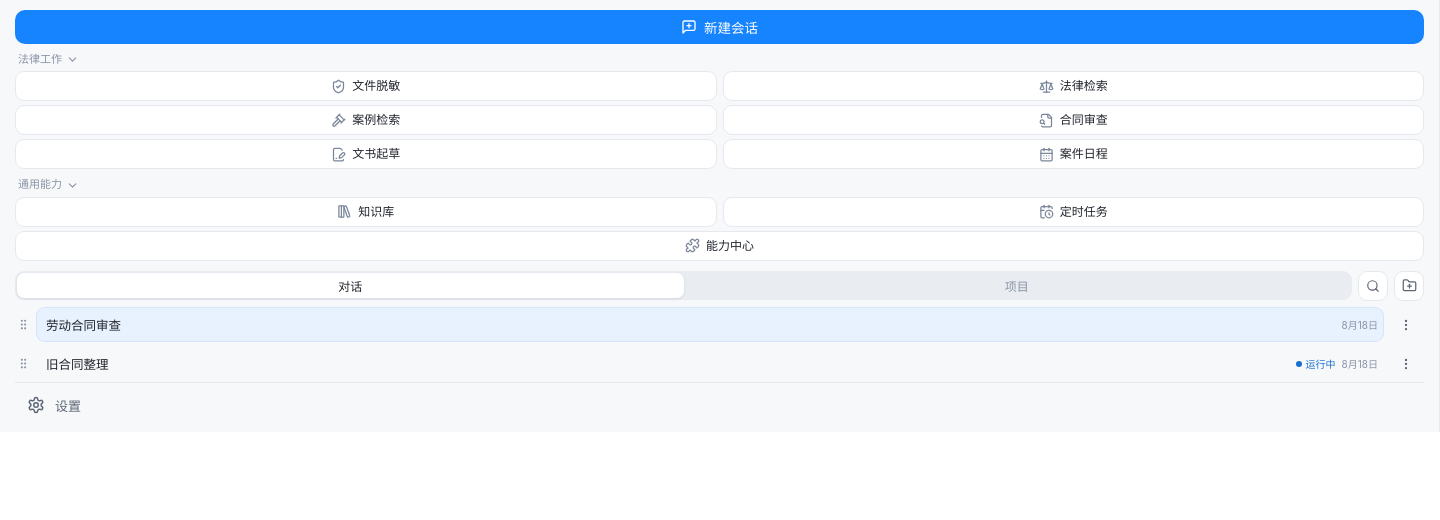
running sessions refuse archive and trash from the menu
Click the 2nd button named "会话操作".
click(1406, 364)  # box [1388, 346, 1424, 382]
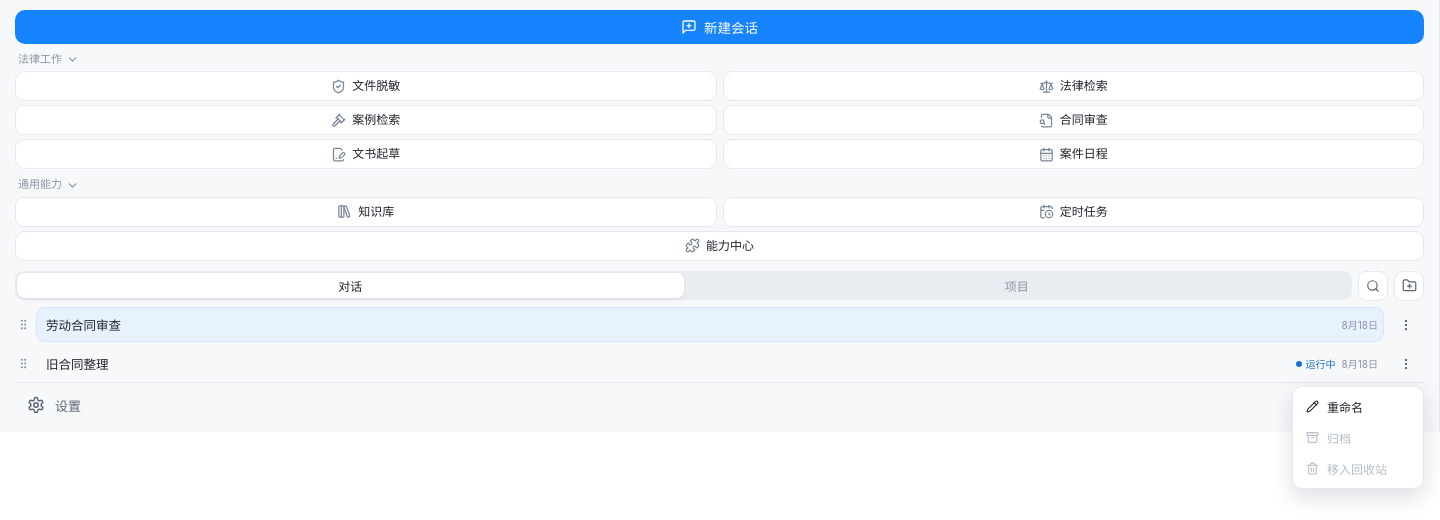
Now the menu item "归档" is disabled, box [1297, 422, 1419, 453]
Now the menu item "移入回收站" is disabled, box [1297, 453, 1419, 484]
